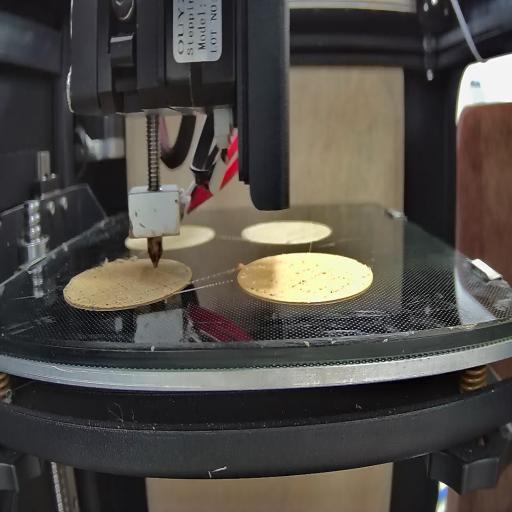under_extrusion: (292, 261, 353, 296), (66, 286, 98, 308), (156, 275, 188, 297), (252, 284, 278, 302)
